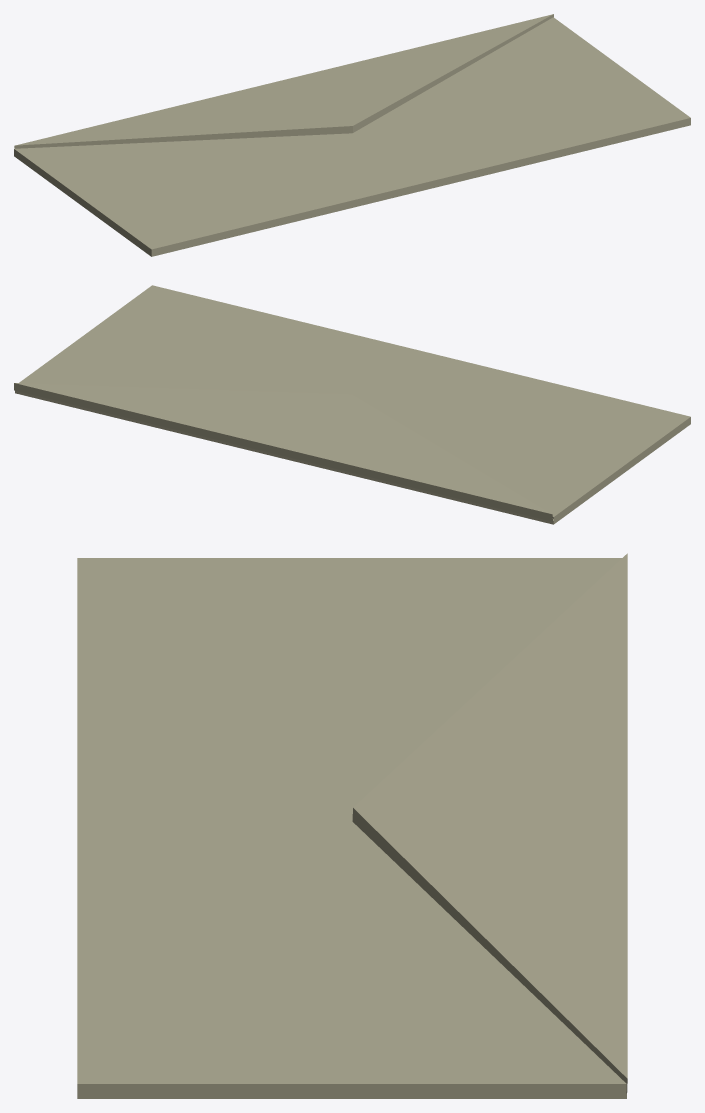
File: Envelope_V1.fbx
3 views of the same model, one above another, from view 1: azimuth 30°, elevation 25°; view 2: azimuth 150°, elevation 25°; view 3: azimuth 270°, elevation 25° (orthographic). The views are drawn at different scales.
Parts seen in each view (by area): view 1: Cube, Cube.001; view 2: Cube, Cube.001; view 3: Cube, Cube.001.
Boxes of the visible parts, x1,y1,x2,y2 form: Cube: (14,17,690,256); Cube.001: (14,14,553,148); Cube: (15,285,690,524); Cube.001: (14,383,552,521); Cube: (77,558,626,1098); Cube.001: (352,553,627,1093).
Bounding box in the file's own units: 32.51 × 14.36 × 0.8328.
